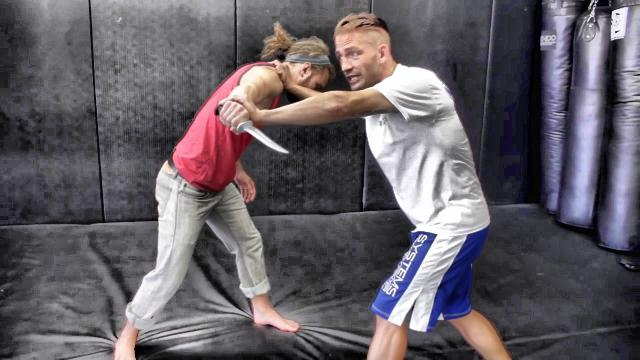knife: (210, 99, 292, 157)
